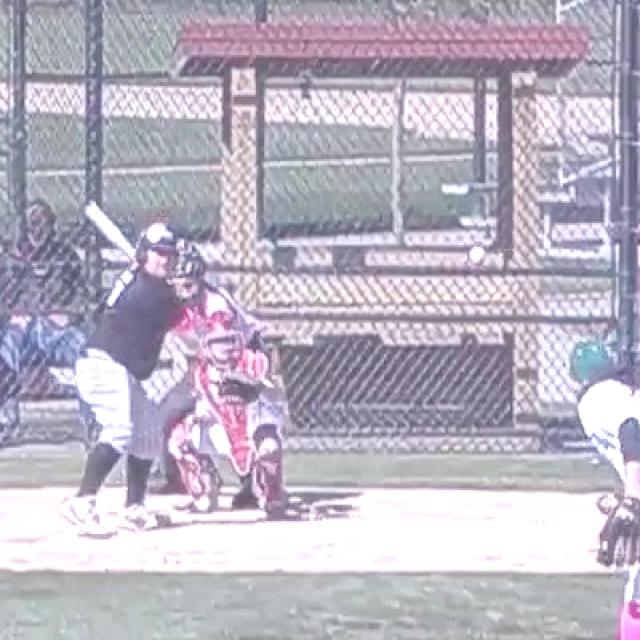baseball: (470, 246, 484, 262)
